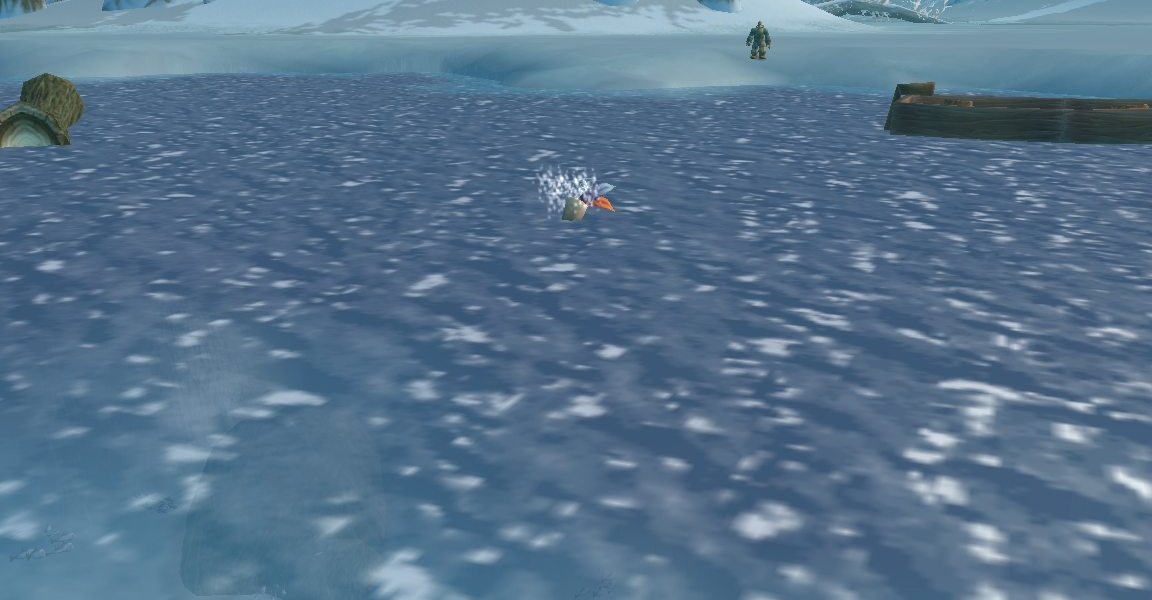Splash: (553, 171, 617, 224)
